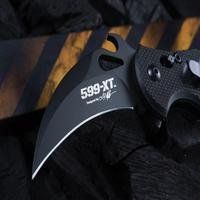knife: (26, 23, 194, 184)
